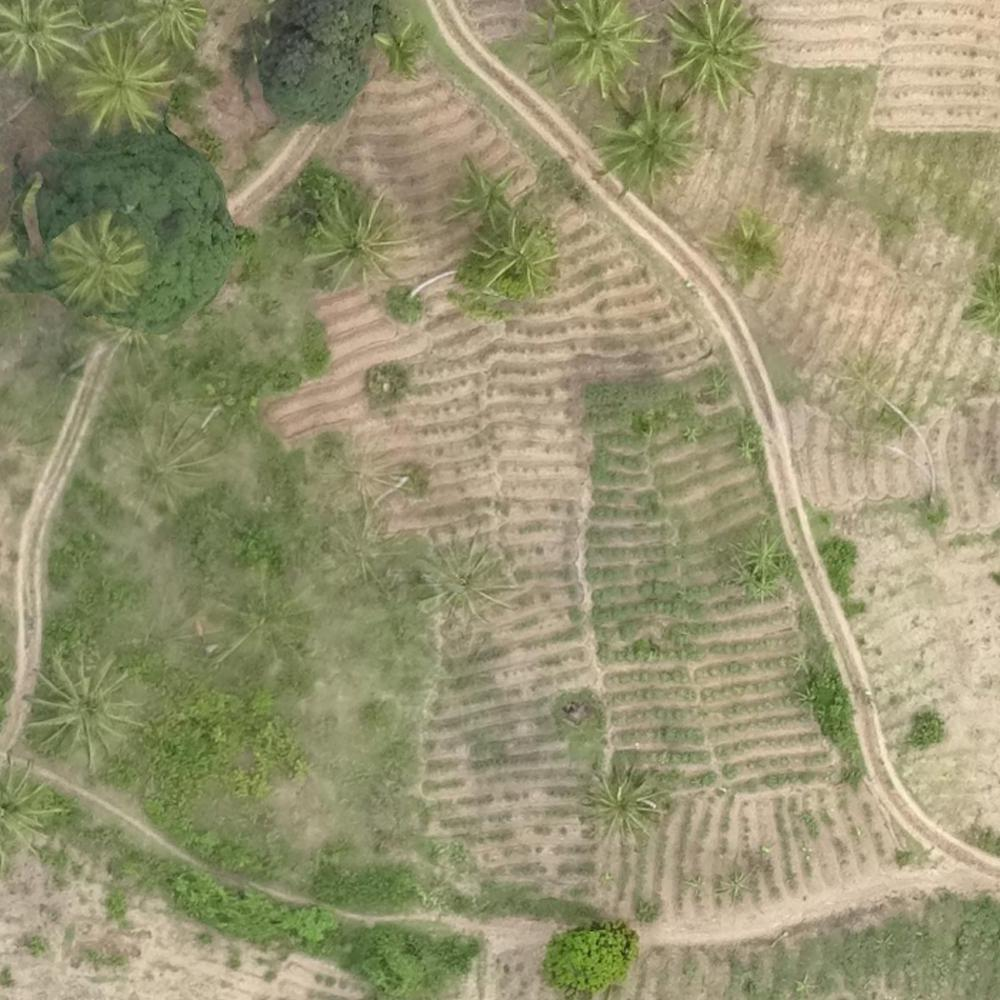Palm: (26, 649, 144, 766), (62, 33, 179, 141), (665, 1, 765, 112), (597, 91, 697, 198), (538, 1, 649, 95), (51, 214, 144, 311), (309, 192, 400, 285), (1, 1, 83, 84), (580, 767, 662, 842)
